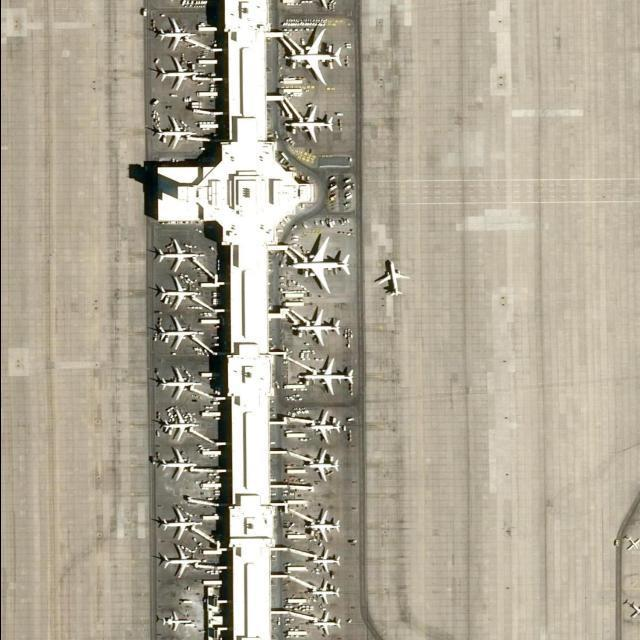Aircraft: (287, 234, 350, 294), (285, 28, 344, 87), (303, 357, 353, 399), (293, 307, 341, 349), (283, 105, 335, 143), (148, 237, 200, 271), (155, 544, 200, 580), (151, 318, 198, 352), (154, 276, 198, 312), (151, 55, 195, 91), (151, 16, 195, 52), (155, 507, 200, 541), (157, 366, 199, 401), (372, 259, 408, 298), (158, 408, 198, 442), (152, 116, 192, 150), (156, 449, 196, 482), (305, 408, 342, 443), (304, 508, 340, 542), (303, 449, 339, 483), (309, 548, 340, 575), (308, 579, 338, 606), (310, 612, 343, 634), (161, 611, 189, 631)
